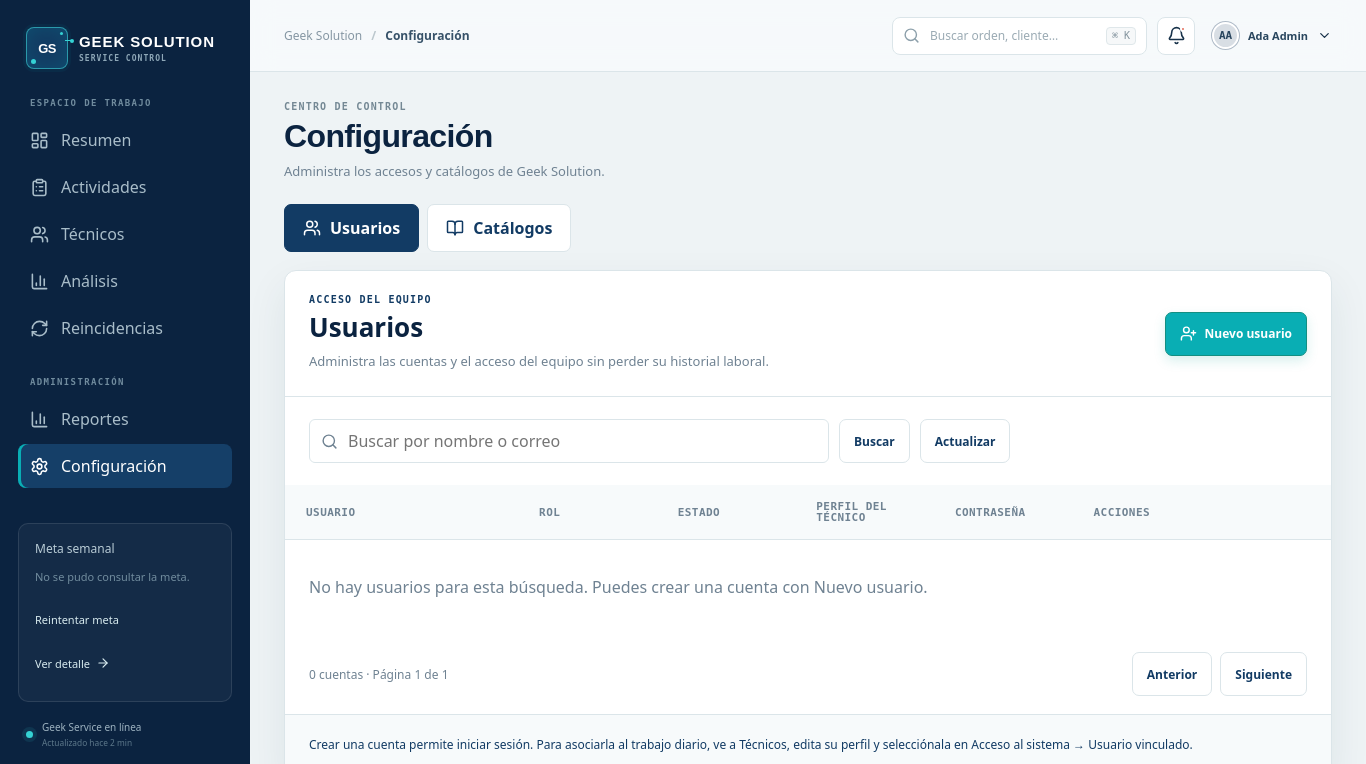
Scenario: catálogos en Configuración › crea una opción y muestra el registro guardado
This screenshot has width=1366, height=764.
Click the button "Catálogos" at [499, 228], box [427,204,571,252]
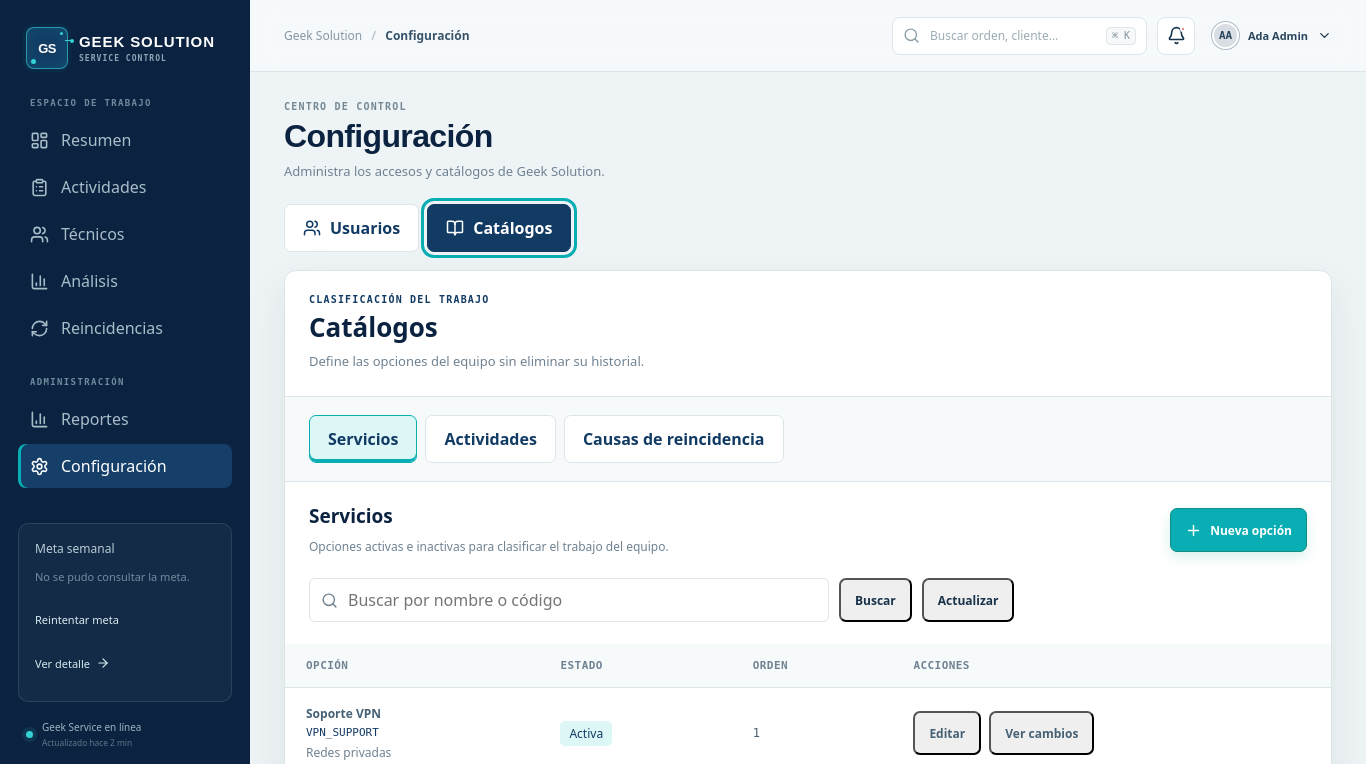
Expected: the text "Soporte VPN" is shown, [306,705,381,722]
Click the button "Nueva opción" at [1239, 530], box [1170,508,1307,552]
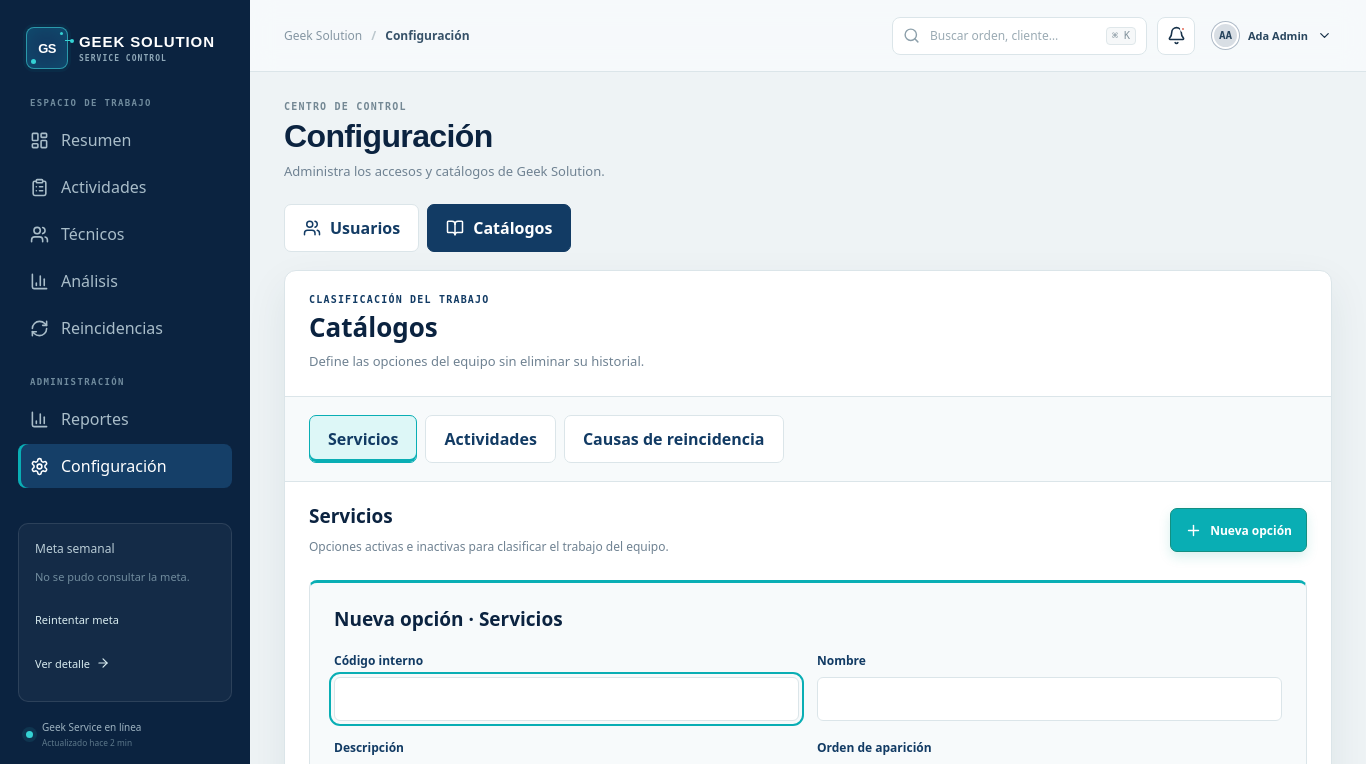
Type "NEW_INSTALL" into the field labelled "Código interno" at [566, 699], box [334,677,799,721]
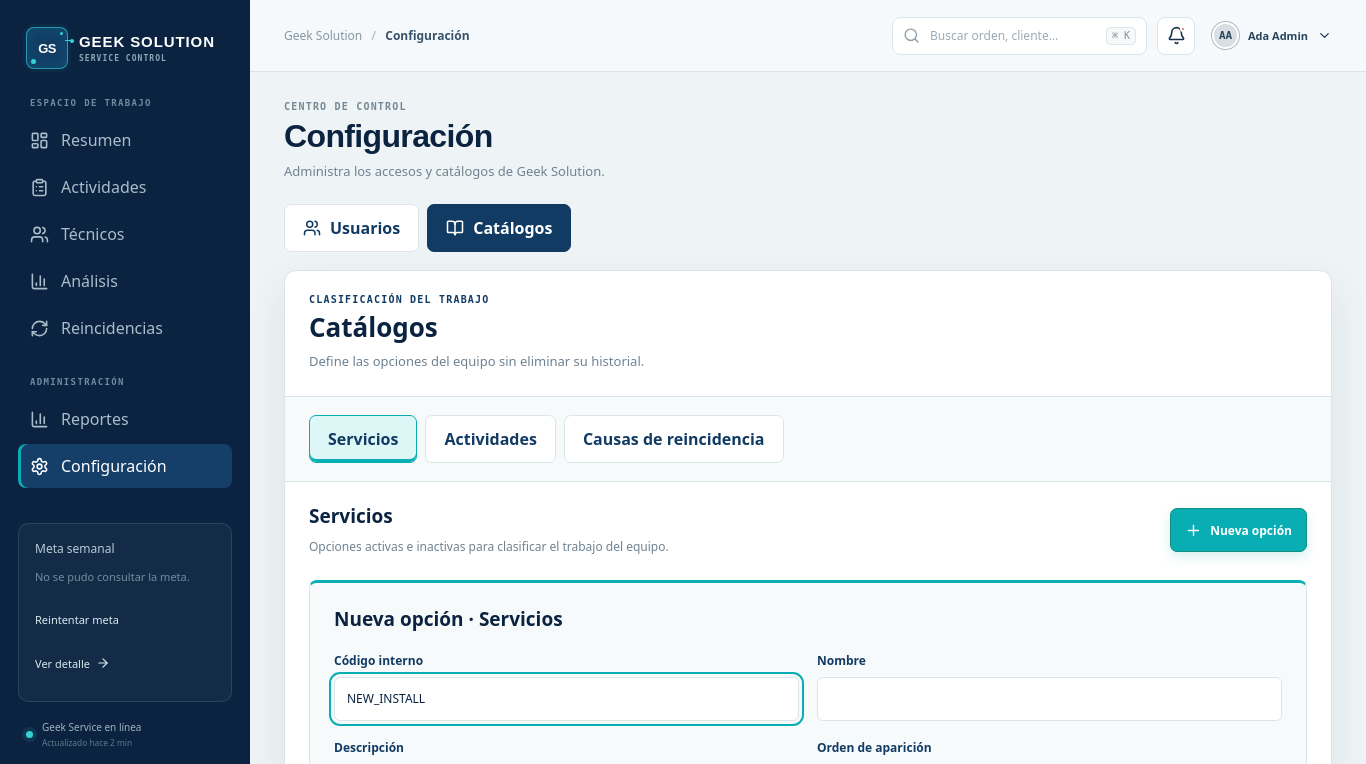
Type "Nueva instalación" into the field labelled "Nombre" at [1050, 699], box [817,677,1282,721]
(page scrolled)
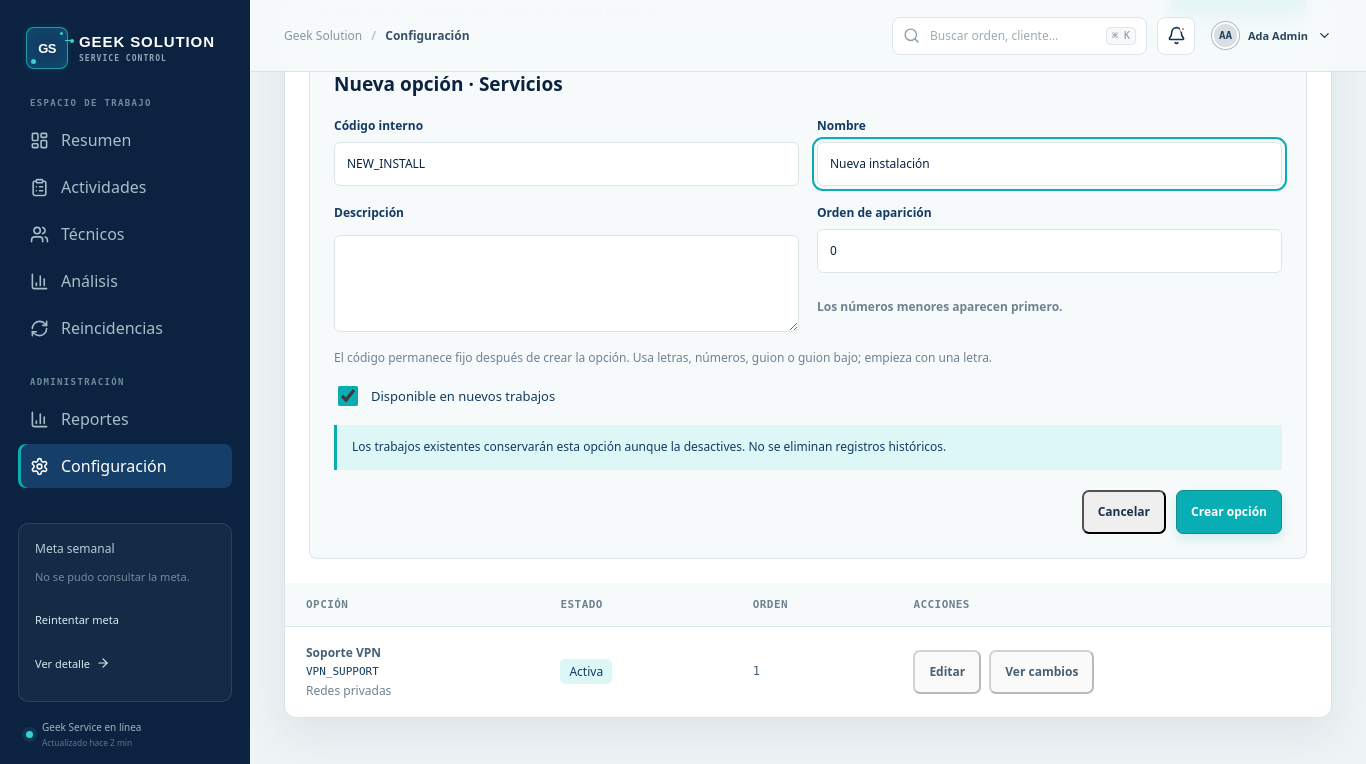
Click the button "Crear opción" at [1229, 512], box [1176,490,1282,534]
(page scrolled)
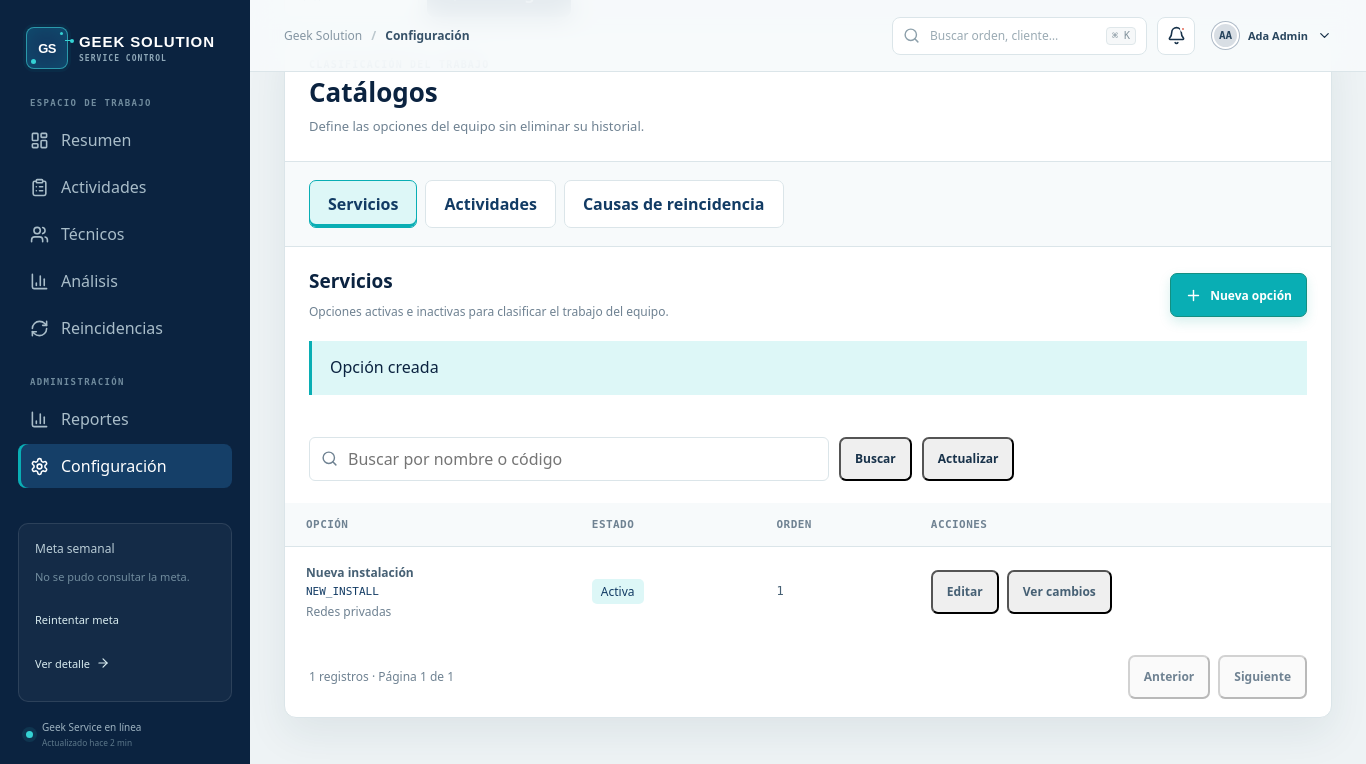
Expected: the message "Opción creada" is shown, [309,341,1307,395]
Expected: the text "Nueva instalación" is shown, [306,564,414,581]
